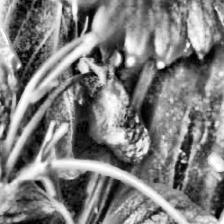Gray Mold: (74, 50, 152, 164)
